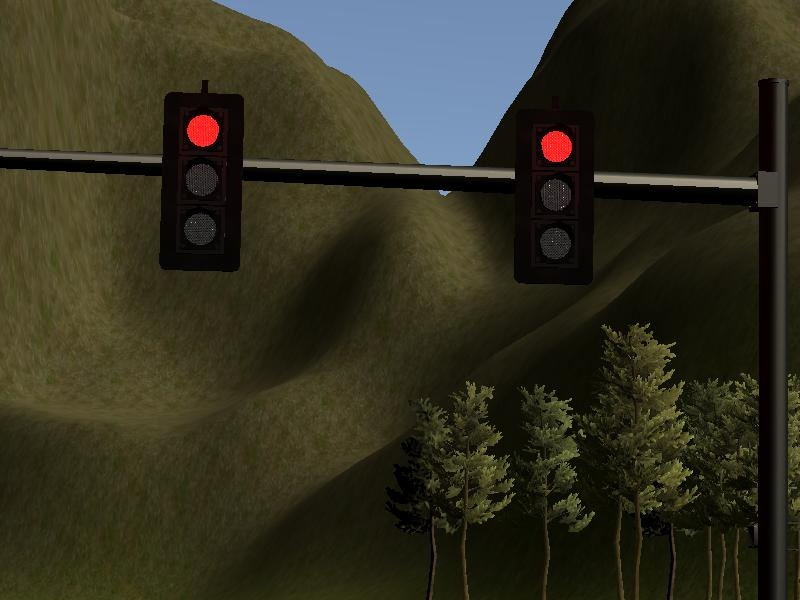red: (506, 102, 606, 293), (154, 87, 251, 277)
